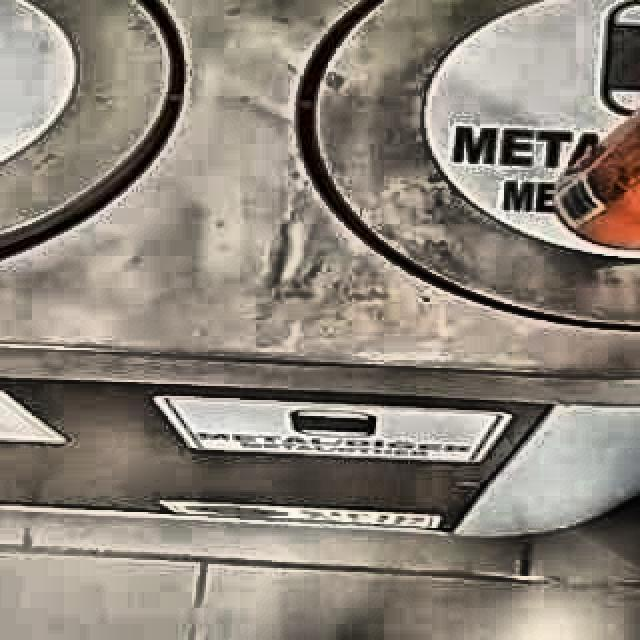metal: (555, 111, 640, 249)
